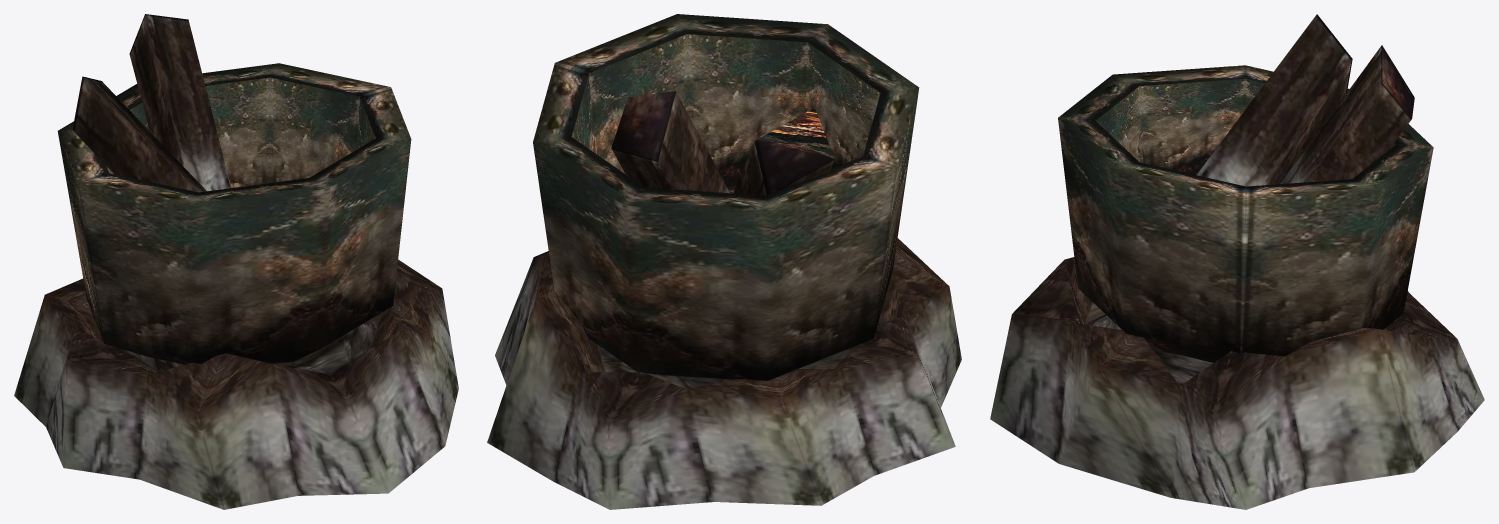
Rendered from OC_FIREPLACE_V1.glb.
3 views of the same model, side by side, from view 1: azimuth 30°, elevation 25°; view 2: azimuth 150°, elevation 25°; view 3: azimuth 270°, elevation 25° (orthographic). The views are drawn at different scales.
Visible parts, largest first — view 1: Mesh; view 2: Mesh; view 3: Mesh.
Boxes of the visible parts, <box> form: Mesh: <box>14,14,458,509</box>; Mesh: <box>487,14,961,509</box>; Mesh: <box>990,14,1484,509</box>.
Size of the model in its own units: 1.05 by 0.866 by 1.11.
Materials: 1 (1 with a texture image).
